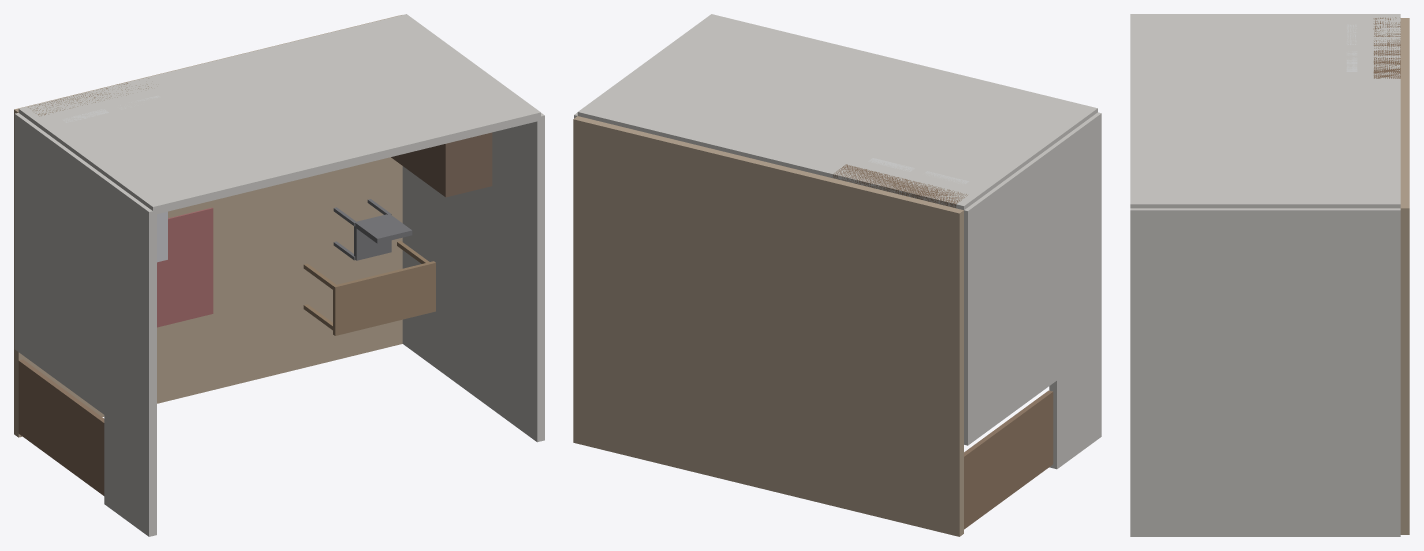
3 views of the same model, side by side, from view 1: azimuth 30°, elevation 25°; view 2: azimuth 150°, elevation 25°; view 3: azimuth 270°, elevation 25° (orthographic).
Visible parts, largest first — view 1: wall_back, floor, wall_left_back, wall_right, door, rug, desk, wall_left_top, wardrobe, chair_back, chair_seat; view 2: floor, wall_back, wall_left_back, door, wall_left_top, bed_frame; view 3: wall_right, wall_back, floor, bed_frame.
Boxes of the visible parts, x1,y1,x2,y2 form: wall_back: (18,14,540,214); floor: (14,15,402,437); wall_left_back: (14,113,156,447); wall_right: (402,113,544,442); door: (18,359,104,495); rug: (157,207,213,327); desk: (333,261,435,335); wall_left_top: (104,415,156,536); wardrobe: (391,132,492,197); chair_back: (355,214,412,243); chair_seat: (354,214,391,260); floor: (573,116,963,536); wall_back: (577,14,1097,209); wall_left_back: (964,112,1101,445); door: (964,390,1053,529); wall_left_top: (1049,348,1101,469); bed_frame: (833,164,967,207); wall_right: (1130,208,1400,536); wall_back: (1130,14,1400,208); floor: (1400,18,1409,534); bed_frame: (1373,17,1400,78).
Size of the model in its own units: 5.1 by 4.05 by 3.1.
